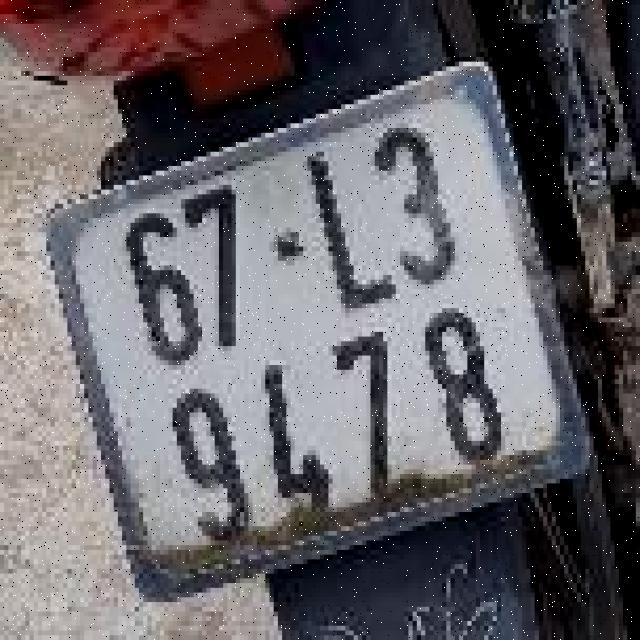3: (358, 102, 476, 295)
4: (242, 346, 348, 536)
6: (112, 199, 214, 376)
7: (321, 314, 415, 511), (171, 175, 264, 363)
8: (407, 286, 517, 474)
9: (154, 370, 263, 554)
L: (290, 128, 408, 328)
